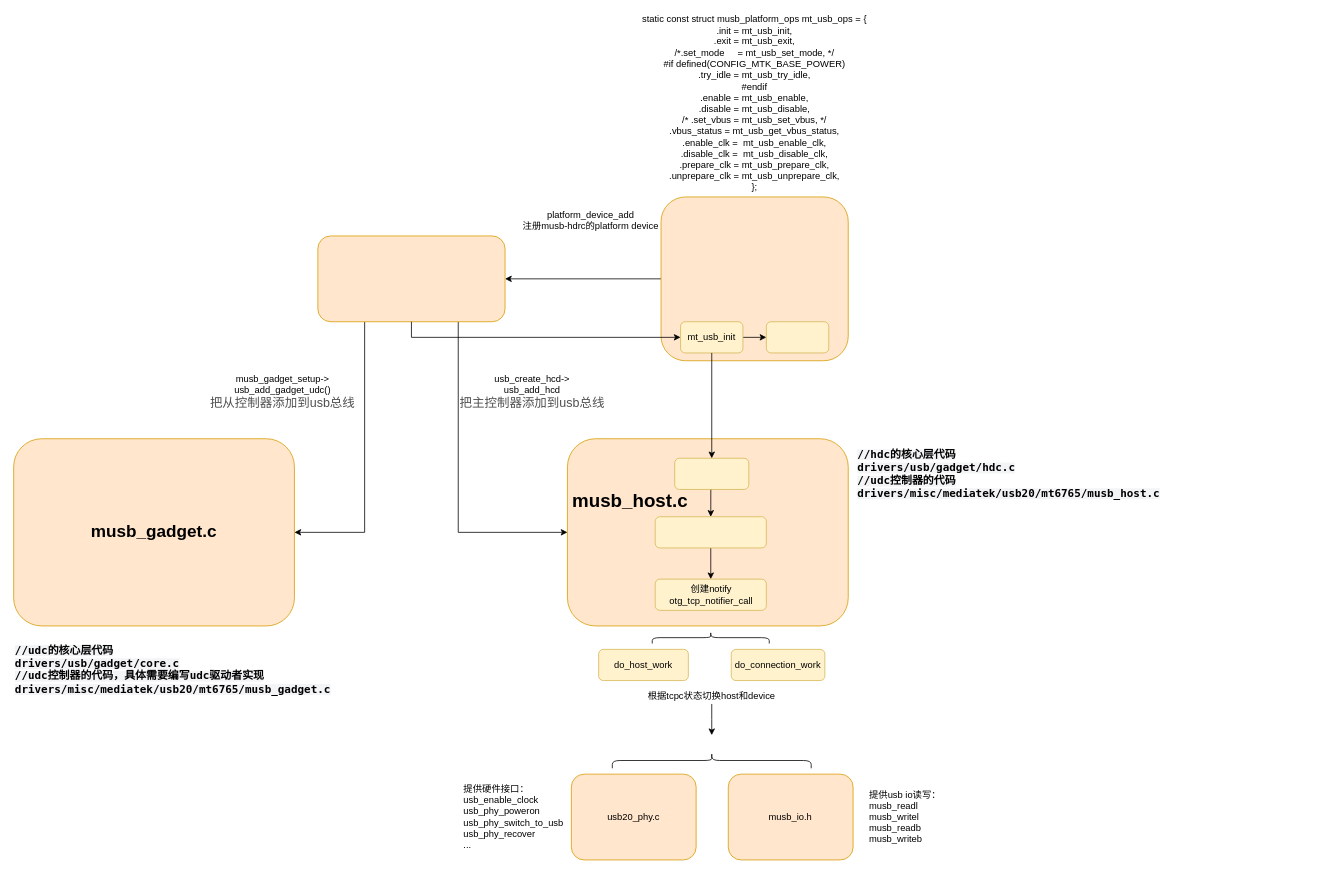
Image size: 1330x874. Some labels were removed from this diagram. Each missing label, with the box of its shape:
mt_usb_enable: (766, 321, 829, 353)
mt_usb_otg_init: (674, 457, 749, 489)
musb20.c platform_driver_name:mt_usb: (660, 196, 848, 361)
musb_core.c platform_driver_name:musb-hdrc: (317, 235, 505, 322)
工作队列do_register_otg_work: (654, 516, 766, 548)
